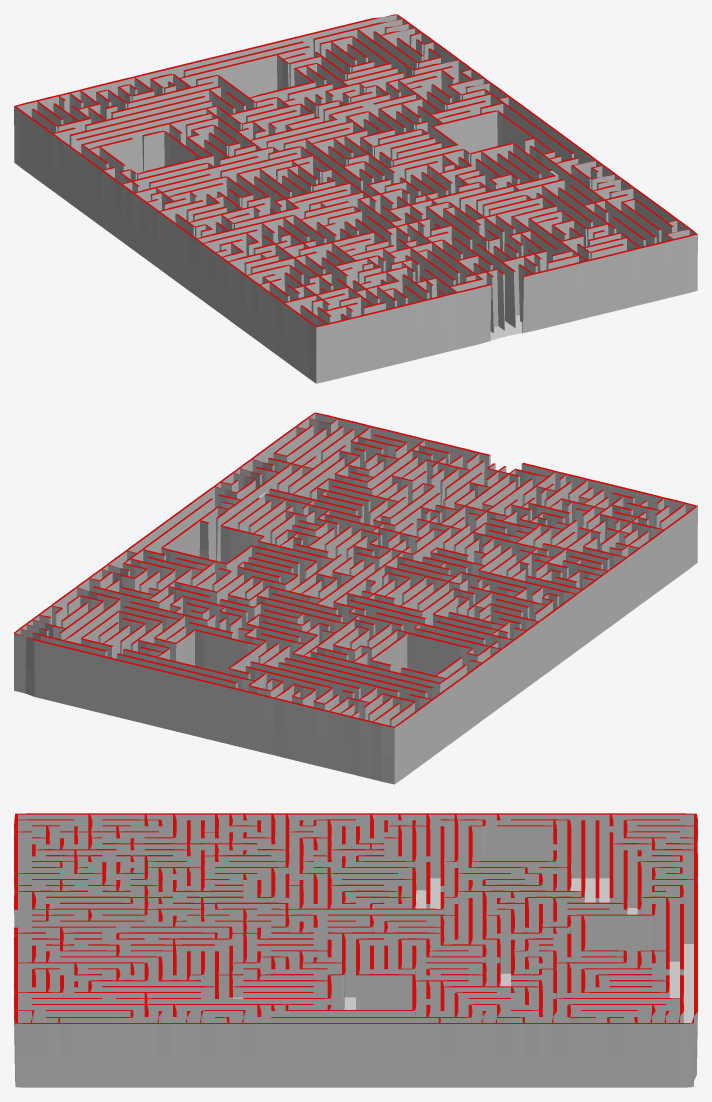
File: Lbirinto final3.fbx
3 views of the same model, one above another, from view 1: azimuth 30°, elevation 25°; view 2: azimuth 150°, elevation 25°; view 3: azimuth 270°, elevation 25° (orthographic). The views are drawn at different scales.
Parts seen in each view (by area): view 1: Plane, Plane.001; view 2: Plane, Plane.001; view 3: Plane, Plane.001, Plane.003.
Boxes of the visible parts, <box> form: Plane: <box>14,15,697,383</box>; Plane.001: <box>14,14,697,327</box>; Plane: <box>14,413,697,784</box>; Plane.001: <box>14,412,697,727</box>; Plane: <box>14,814,697,1087</box>; Plane.001: <box>14,813,697,1023</box>; Plane.003: <box>344,878,693,1022</box>.
Bounding box in the file's own units: 7077 × 1006 × 9710.
